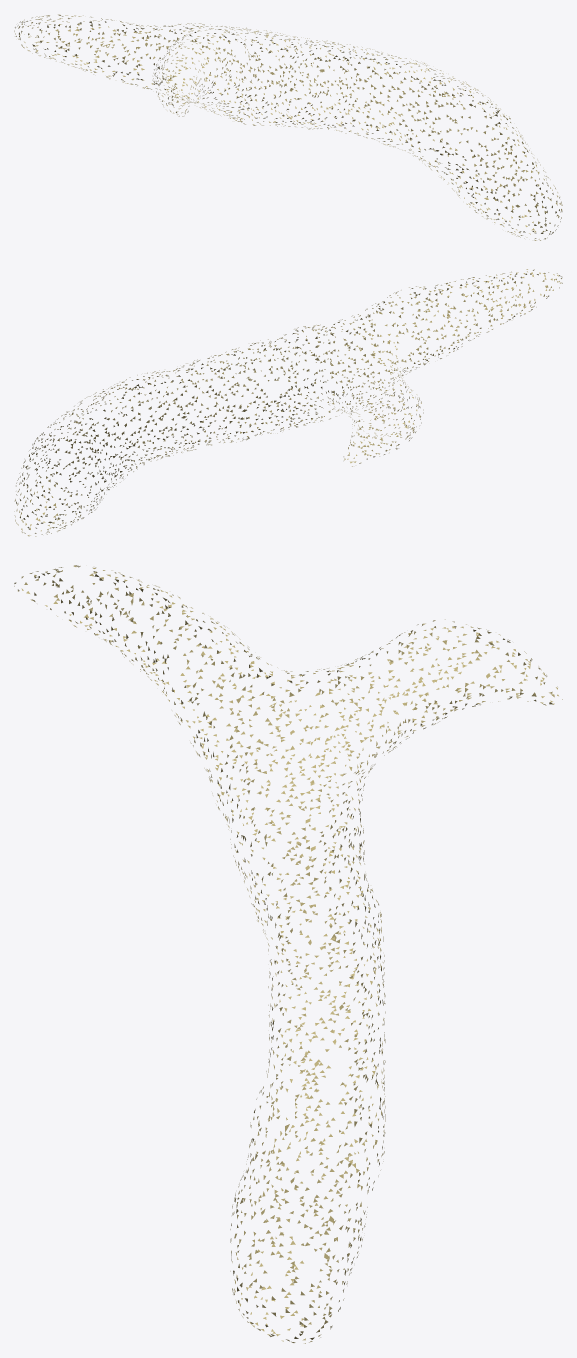
File: morph_008.glb
The picture shows the model from 3 angles, top to bottom: view 1: azimuth 30°, elevation 25°; view 2: azimuth 150°, elevation 25°; view 3: azimuth 270°, elevation 25°; orthographic projection. The views are drawn at different scales.
Bounding box in the file's own units: 120 × 79.29 × 83.83.
